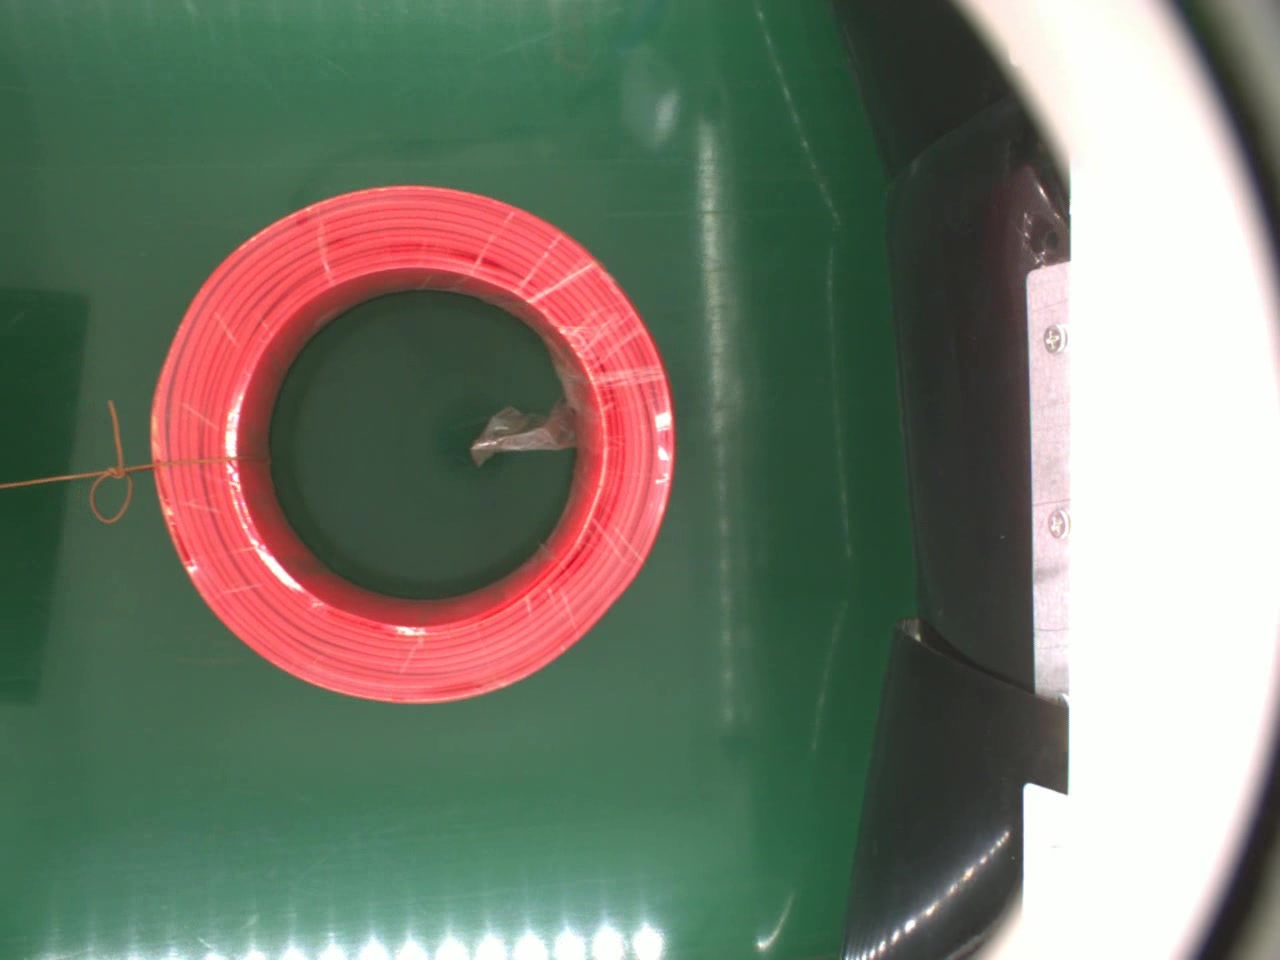red: (149, 179, 675, 708)
